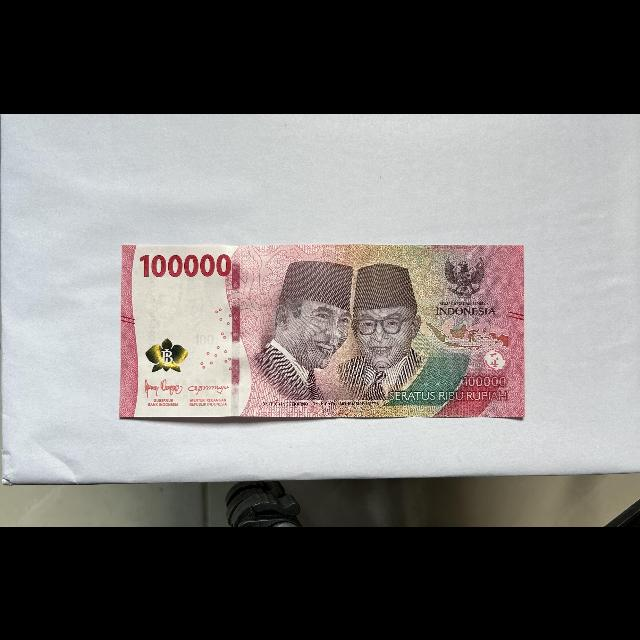Asli-100k: (118, 242, 526, 419)
Tinta-Asli-100k: (145, 336, 189, 372)
